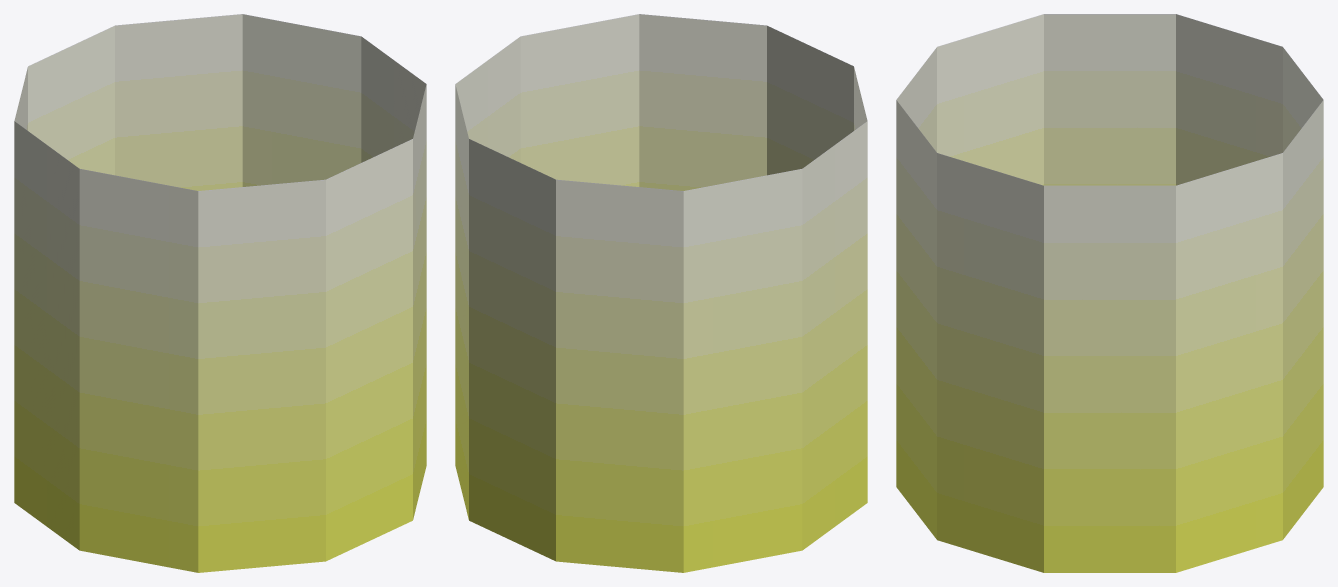
The model's file is Zone.fbx.
3 views of the same model, side by side, from view 1: azimuth 30°, elevation 25°; view 2: azimuth 150°, elevation 25°; view 3: azimuth 270°, elevation 25° (orthographic).
Parts seen in each view (by area): view 1: Cylinder; view 2: Cylinder; view 3: Cylinder.
Part boxes in pixels (x1,y1,x2,y2): Cylinder: (14,14,426,572); Cylinder: (455,14,867,572); Cylinder: (896,14,1323,572).
Size of the model in its own units: 190 by 200 by 200.
